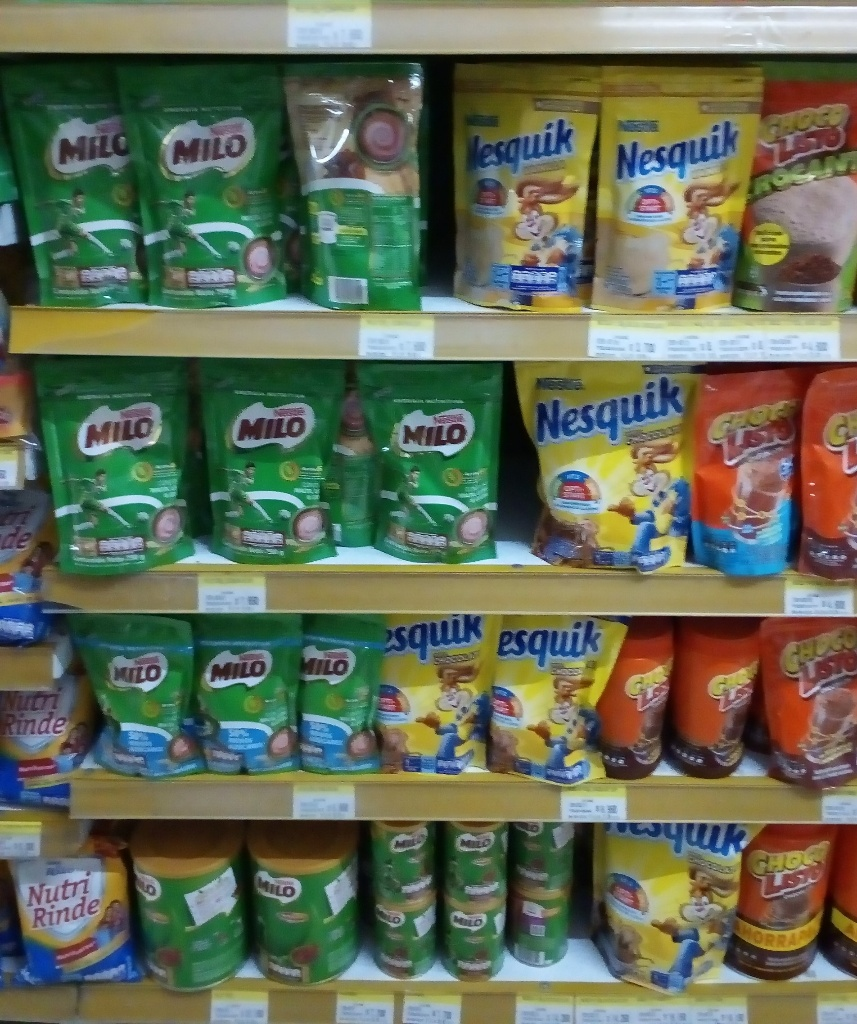COL0170102DYP25000: (745, 57, 854, 318)
COL0170103DYP20000: (755, 606, 851, 798)
COL0170103TRR00100: (731, 828, 838, 982)
COL0170103TRR30000: (668, 619, 776, 789)
COL0170104DYP20000: (701, 367, 806, 577)
COL0170203DYP25000: (8, 67, 151, 304)
COL0170203LAT20000: (374, 904, 445, 982)
COL0170205DYP20000: (284, 611, 383, 780)
COL0170303DYP20000: (376, 607, 490, 781)
COL0170306DYP20000: (442, 54, 589, 304)
